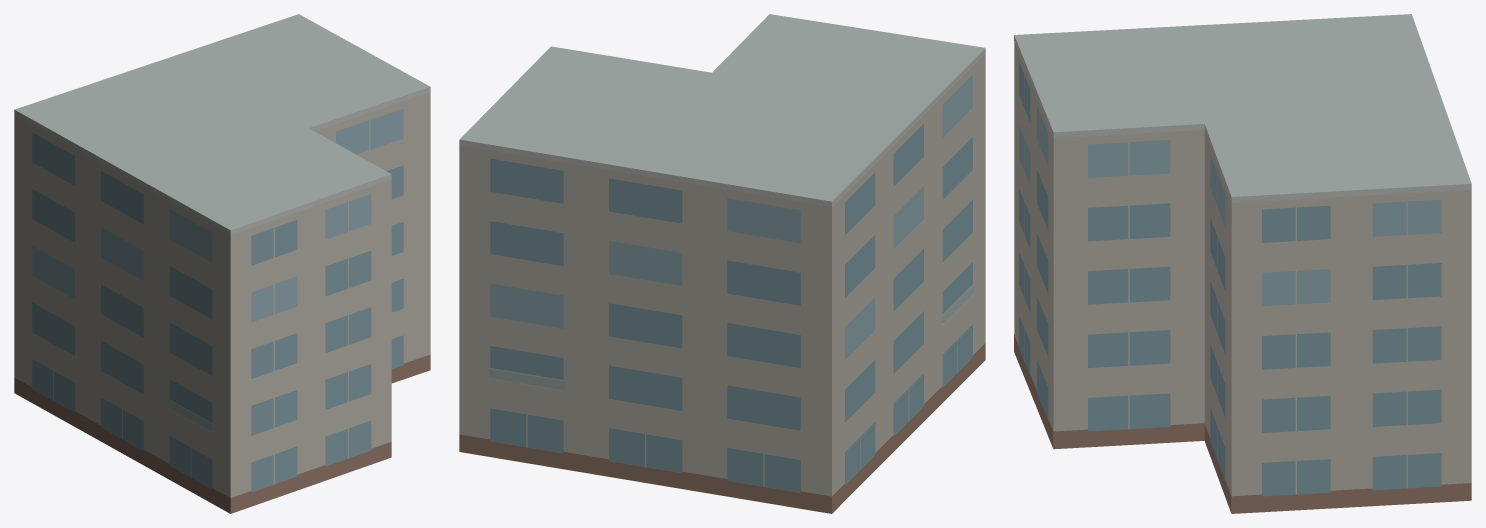
File: survey-upis-32960676.glb
The picture shows the model from 3 angles, left to right: view 1: azimuth 30°, elevation 25°; view 2: azimuth 150°, elevation 25°; view 3: azimuth 270°, elevation 25°; orthographic projection. The views are drawn at different scales.
Visible parts, largest first — view 1: survey-upis-32960676.tmp; view 2: survey-upis-32960676.tmp; view 3: survey-upis-32960676.tmp.
Boxes of the visible parts, x1,y1,x2,y2 form: survey-upis-32960676.tmp: (14,14,430,513); survey-upis-32960676.tmp: (459,14,985,513); survey-upis-32960676.tmp: (1014,14,1471,513).
Bounding box in the file's own units: 16.36 × 13.2 × 17.29.
